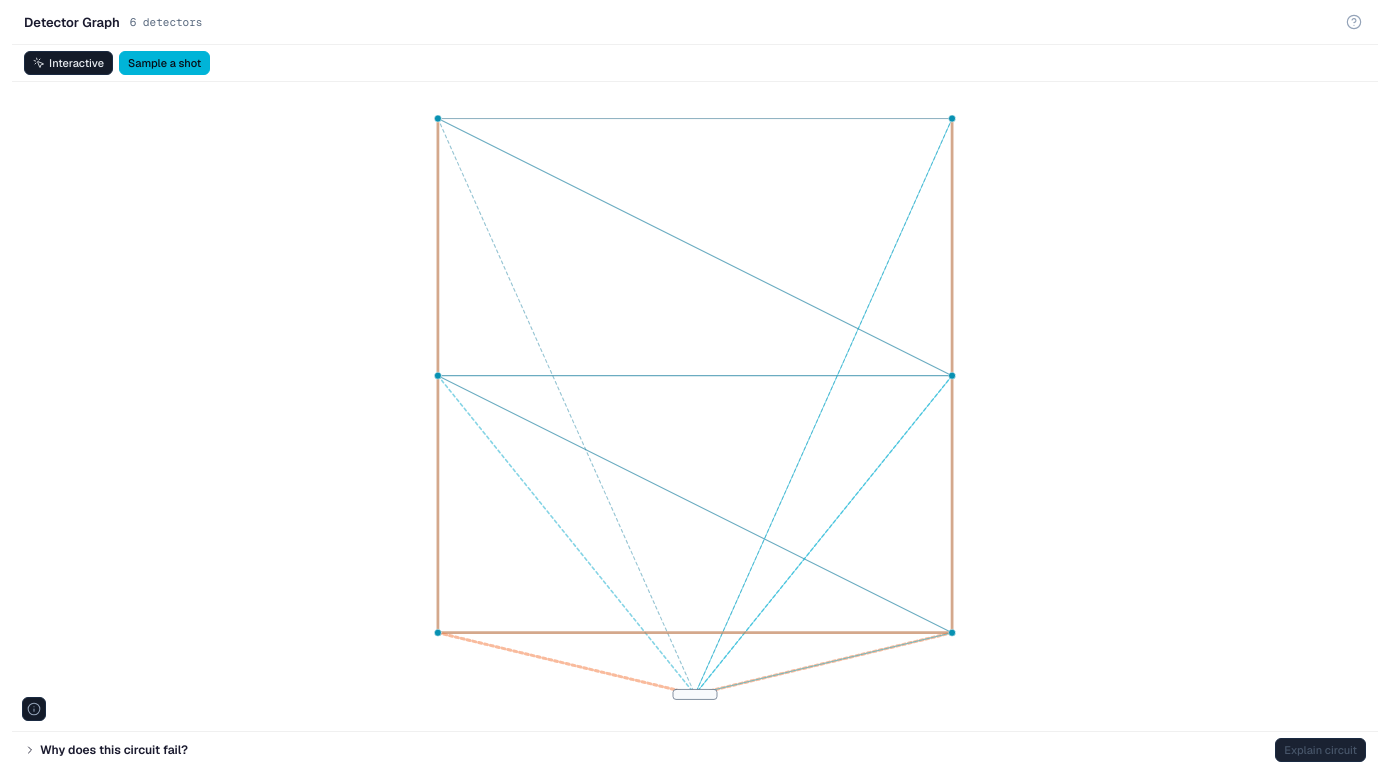
DetectorGraphPanel interactive decoder honesty › labels the interactive decoder as a greedy preview, not PyMatching
The image size is (1390, 768).
Click the button "Interactive".
click(68, 63)  # box [24,51,113,75]
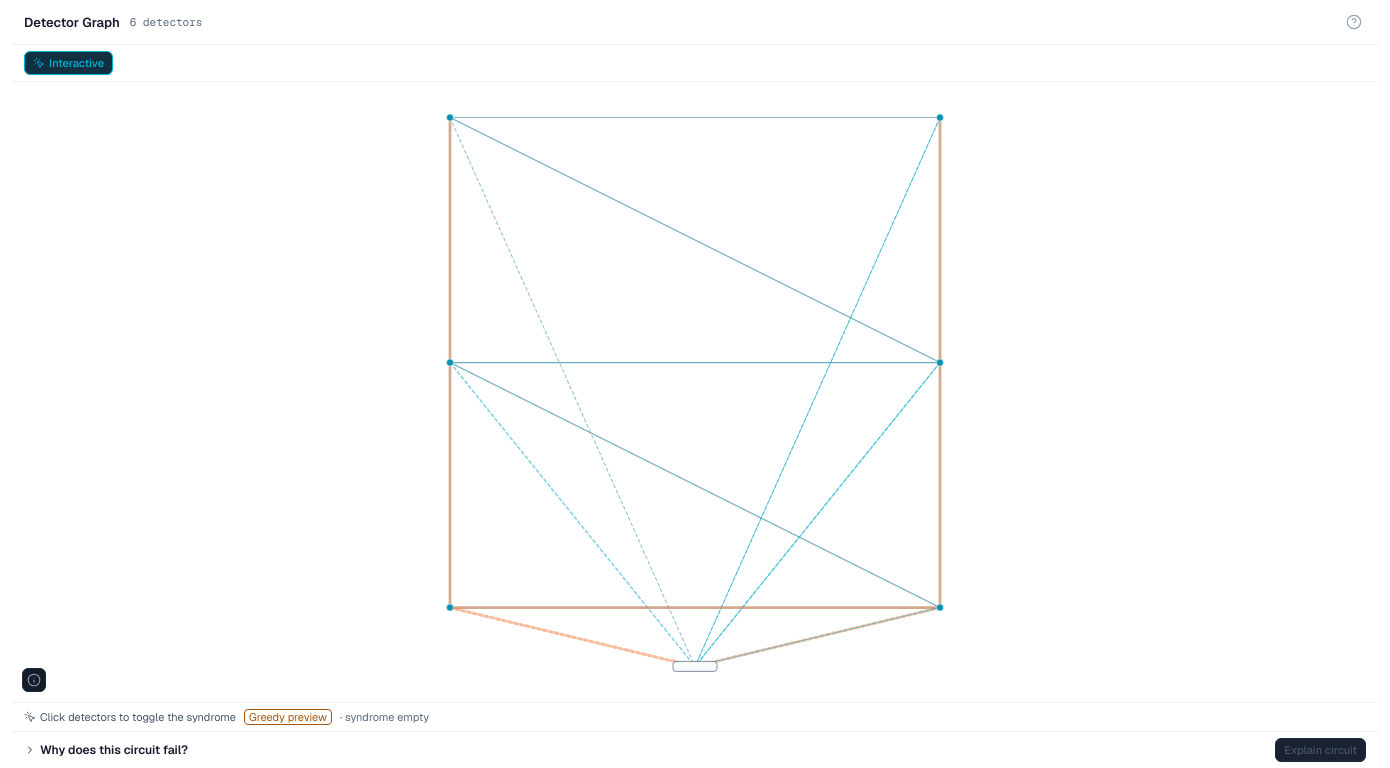
Expected: the text with test id "interactive-decoder-label" reads "Greedy preview", [249,710,327,724]
